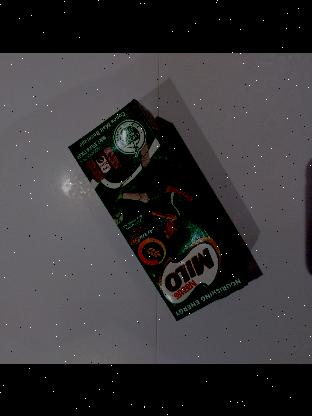Others: (69, 99, 247, 318)
